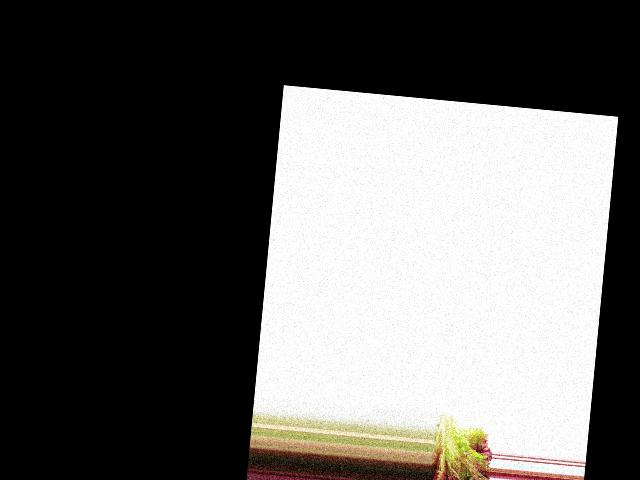lettuce: (427, 410, 494, 480)
